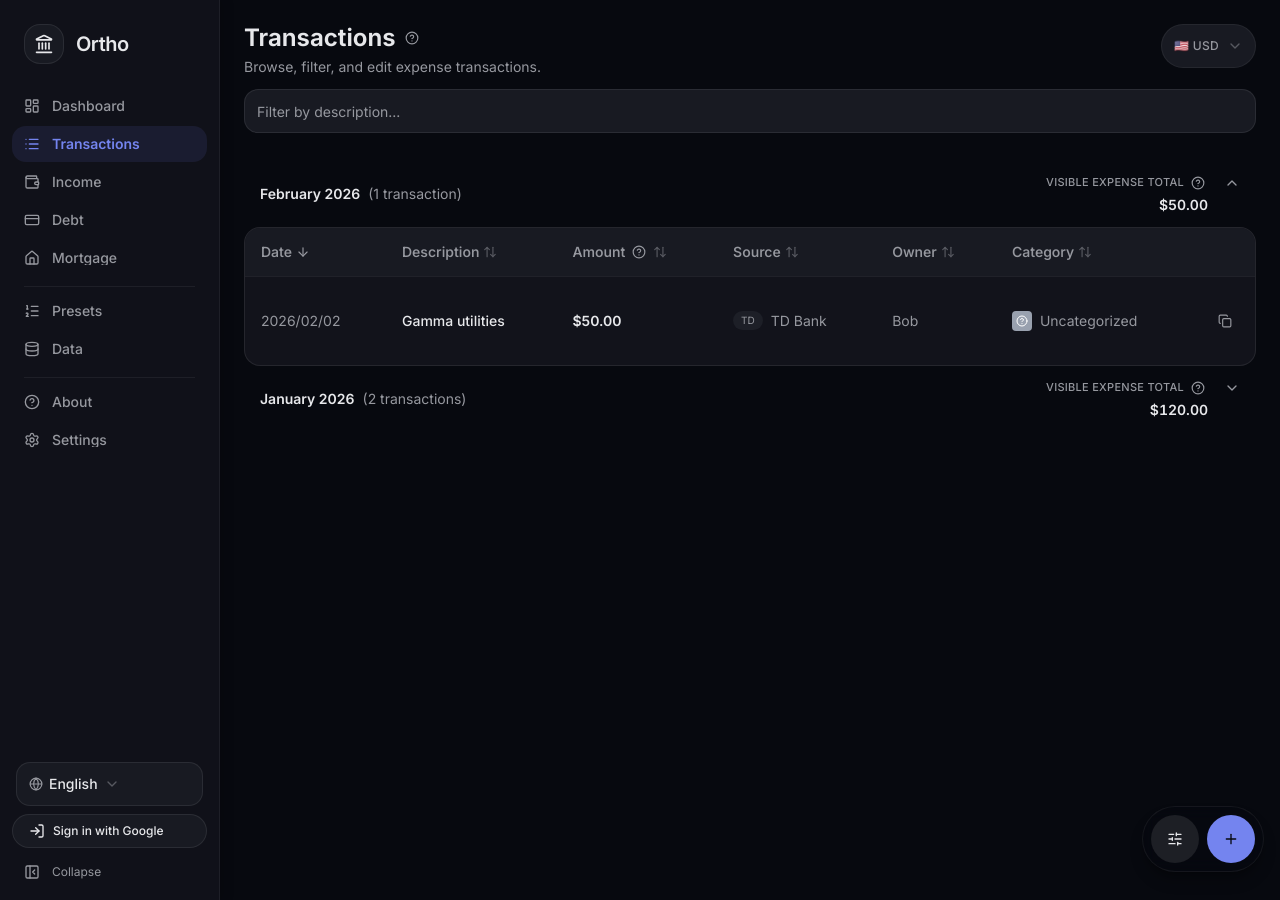
Test: TransactionsPage opens filters and actions sheet
The image size is (1280, 900).
Click the button named "Filters & actions" at {"x": 1175, "y": 839}, box x1=1151 y1=815 x2=1199 y2=863
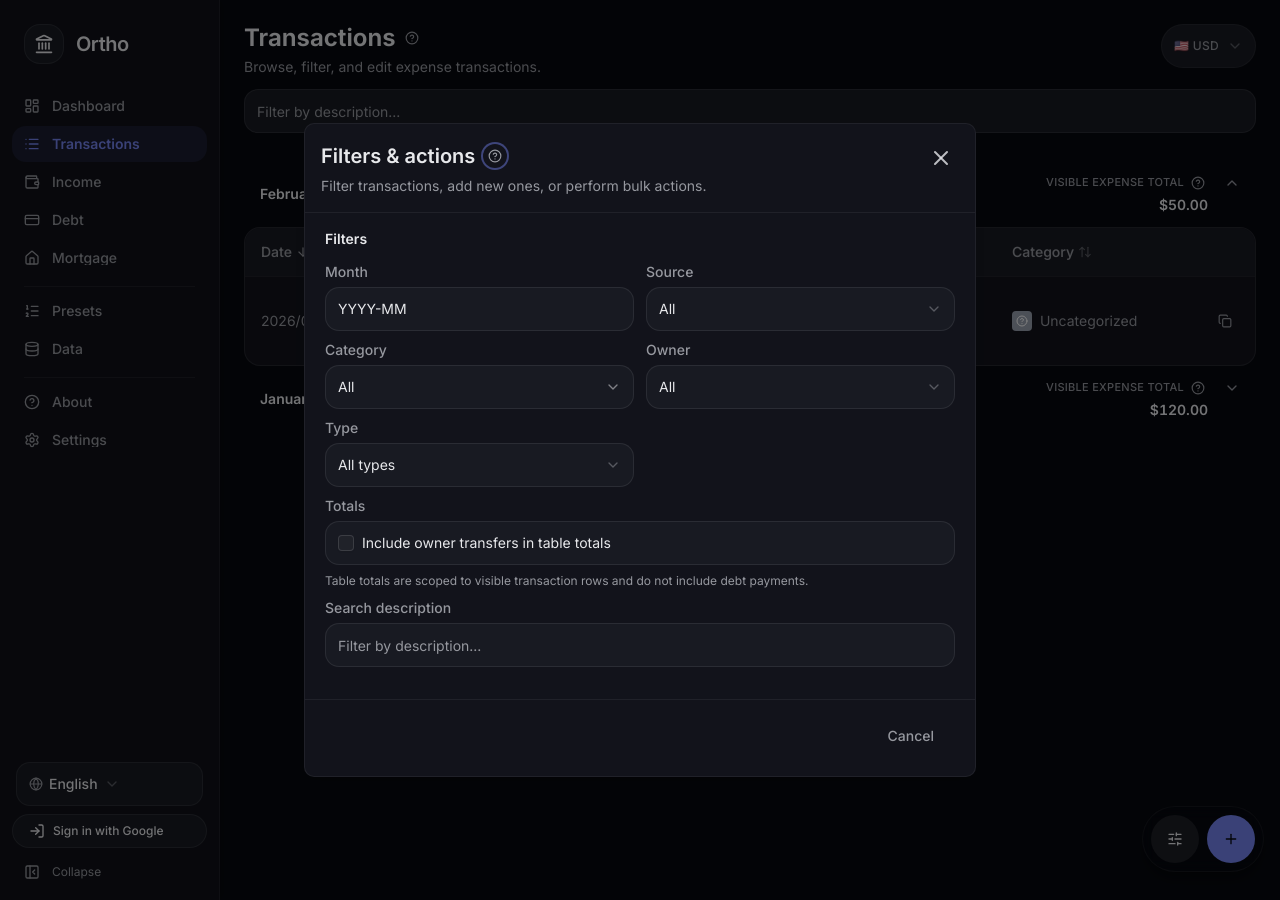
Expected: the dialog is shown, x1=304 y1=123 x2=976 y2=777
Expected: the text "Filters & actions" is shown, x1=321 y1=144 x2=507 y2=168
